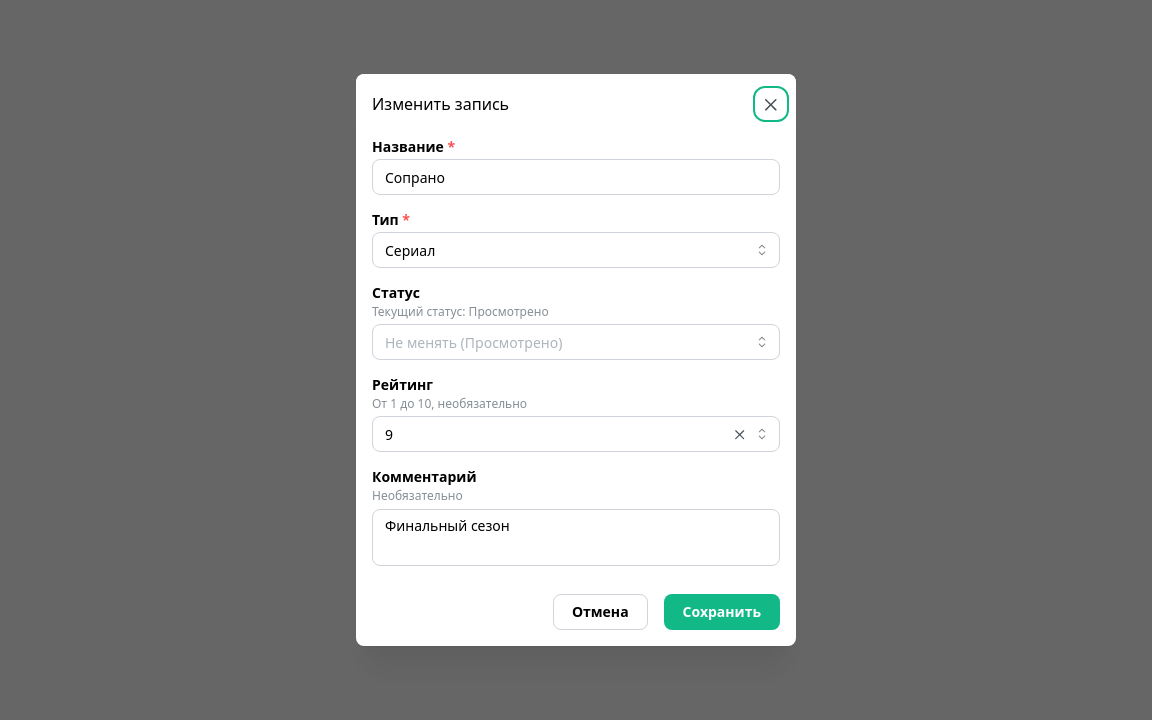
Scenario: MediaFormModal › при редактировании предлагает только допустимые переходы и сохраняет текущий статус
Later steps or results of the test are not shown.
Check: the text "Текущий статус: Просмотрено" is shown, box 372,303 -> 549,320
Click the dropdown labelled "Статус". click: point(576, 342)
box: 372,324 -> 780,360
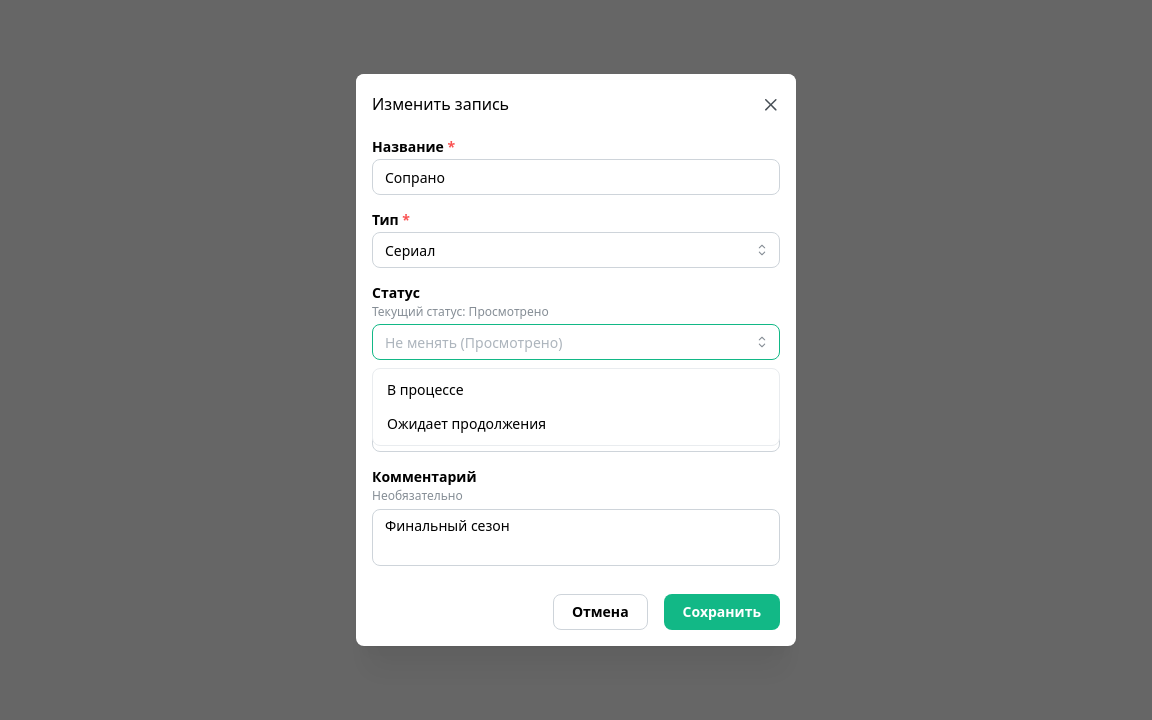
Check: the options read "В процессе", "Ожидает продолжения", in this order, box 387,380 -> 464,399; 387,414 -> 546,433
